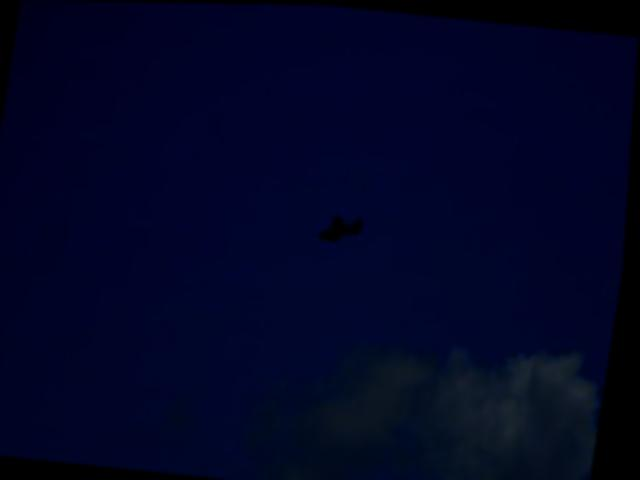uav: (322, 209, 369, 247)
